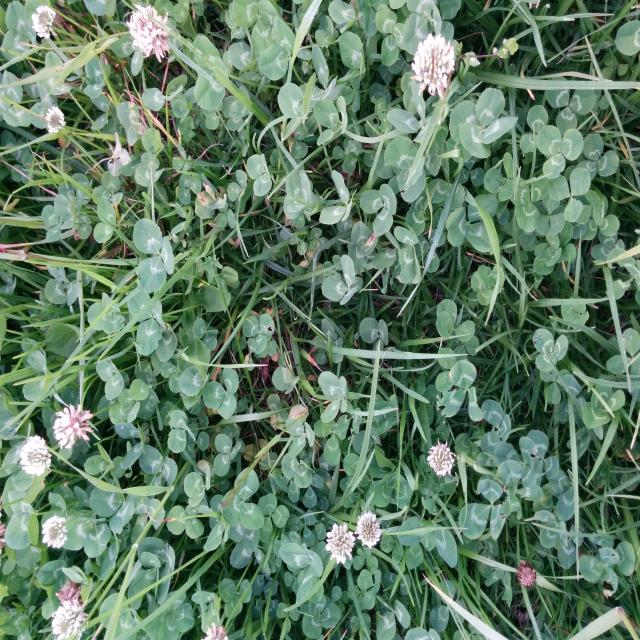Four Leaf Clover: (449, 87, 518, 158)
